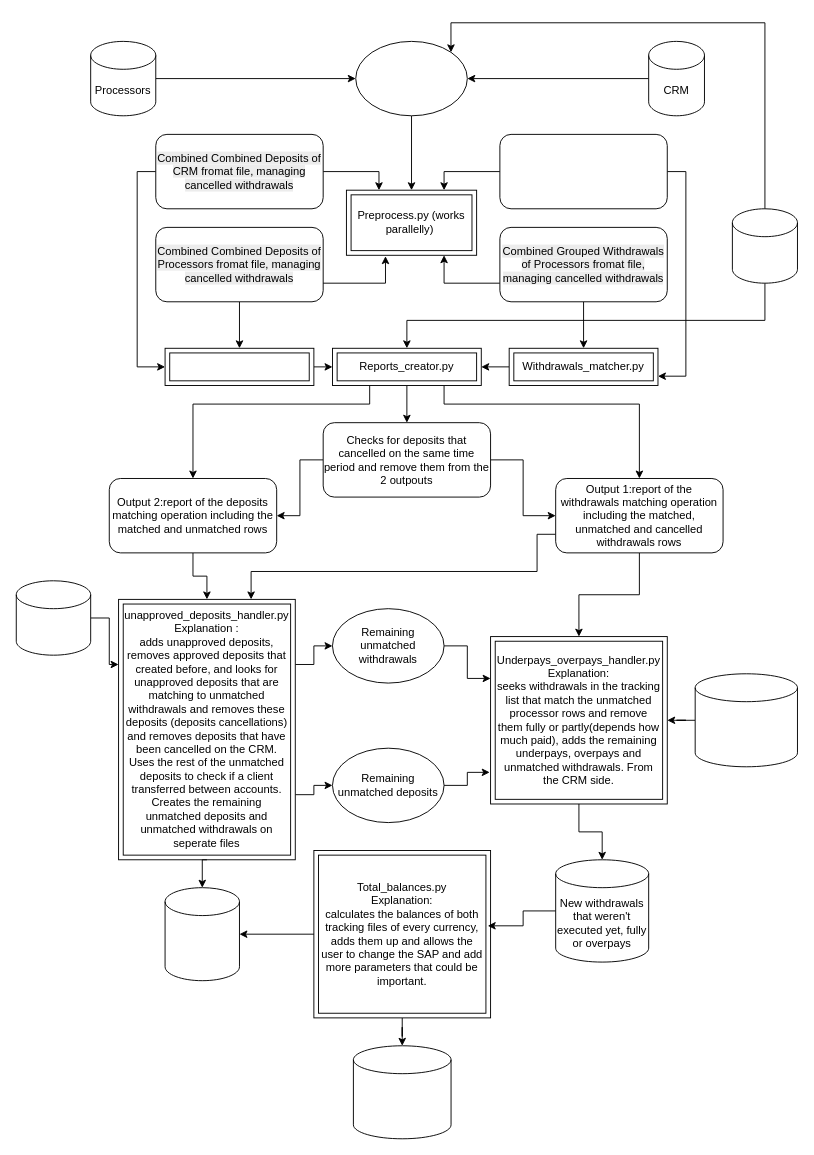
Image size: 814x1155. Some labels were removed from this diagram. The centre of each missing label's shape, as x and y in pixels:
"Combined Grouped Withdrawals of CRM fromat file, managing cancelled withdrawals" goes at point 583,171.
"Deposits_matcher.py" goes at point 239,366.
"New unapproved deposits tracking list" goes at point 201,934.
"Rates" goes at point 764,245.
"START" goes at point 411,78.
"Total amount per currency compared to the SAP balances" goes at point 401,1092.
"Unapproved deposits tracking list" goes at point 53,617.
"Withdrawals that weren't executed yet, fully or overpays" goes at point 745,720.
